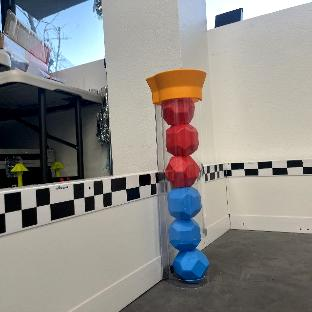Loader: (146, 68, 213, 288)
V5_BLUE: (172, 249, 208, 283), (168, 187, 201, 217), (169, 219, 201, 248)
V5_RED: (164, 120, 198, 154), (165, 154, 198, 187), (162, 97, 198, 124)
